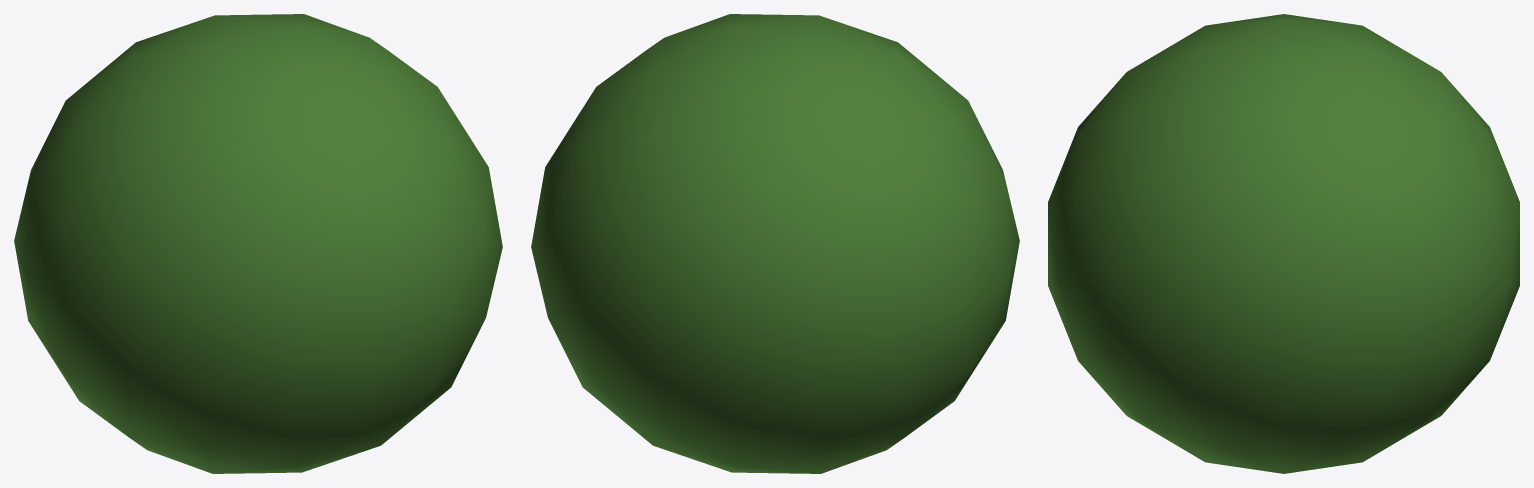
File: boxwood.glb
The picture shows the model from 3 angles, left to right: view 1: azimuth 30°, elevation 25°; view 2: azimuth 150°, elevation 25°; view 3: azimuth 270°, elevation 25°; orthographic projection.
Parts seen in each view (by area): view 1: boxwood; view 2: boxwood; view 3: boxwood.
Part boxes in pixels (x1,y1,x2,y2): boxwood: (14,14,502,473); boxwood: (531,14,1019,473); boxwood: (1048,14,1519,473).
Bounding box in the file's own units: 0.7052 × 0.6699 × 0.7052.
